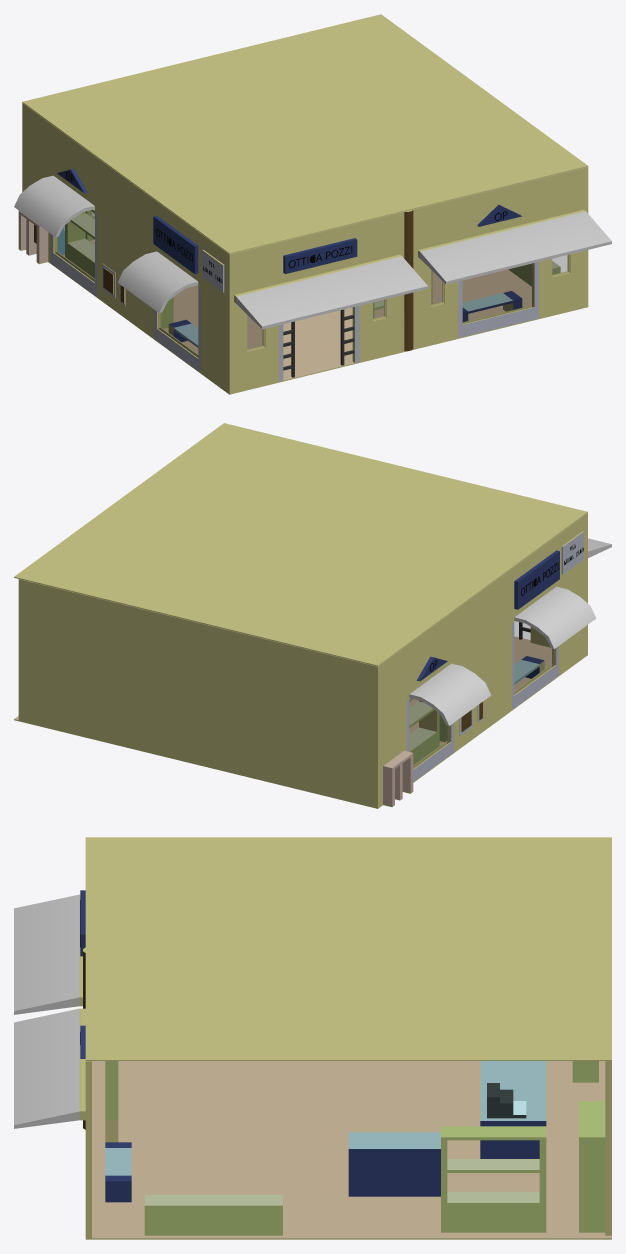
The model's file is Ottica pozzi.fbx.
3 renders of one model, top to bottom at view 1: azimuth 30°, elevation 25°; view 2: azimuth 150°, elevation 25°; view 3: azimuth 270°, elevation 25°, orthographic. The views are drawn at different scales.
Visible parts, largest first — view 1: Ottica_pozzi; view 2: Ottica_pozzi; view 3: Ottica_pozzi.
Boxes of the visible parts, x1,y1,x2,y2 form: Ottica_pozzi: [14, 14, 611, 394]; Ottica_pozzi: [14, 423, 611, 808]; Ottica_pozzi: [14, 837, 611, 1239].
Size of the model in its own units: 888 by 301 by 909.
